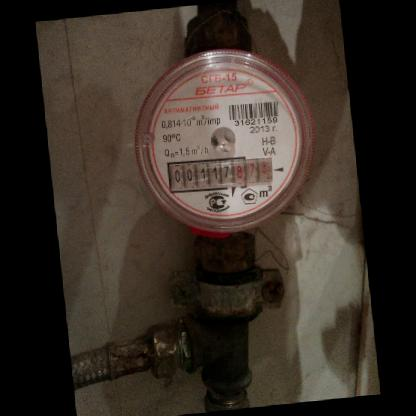digital_screen: (164, 156, 236, 195)
